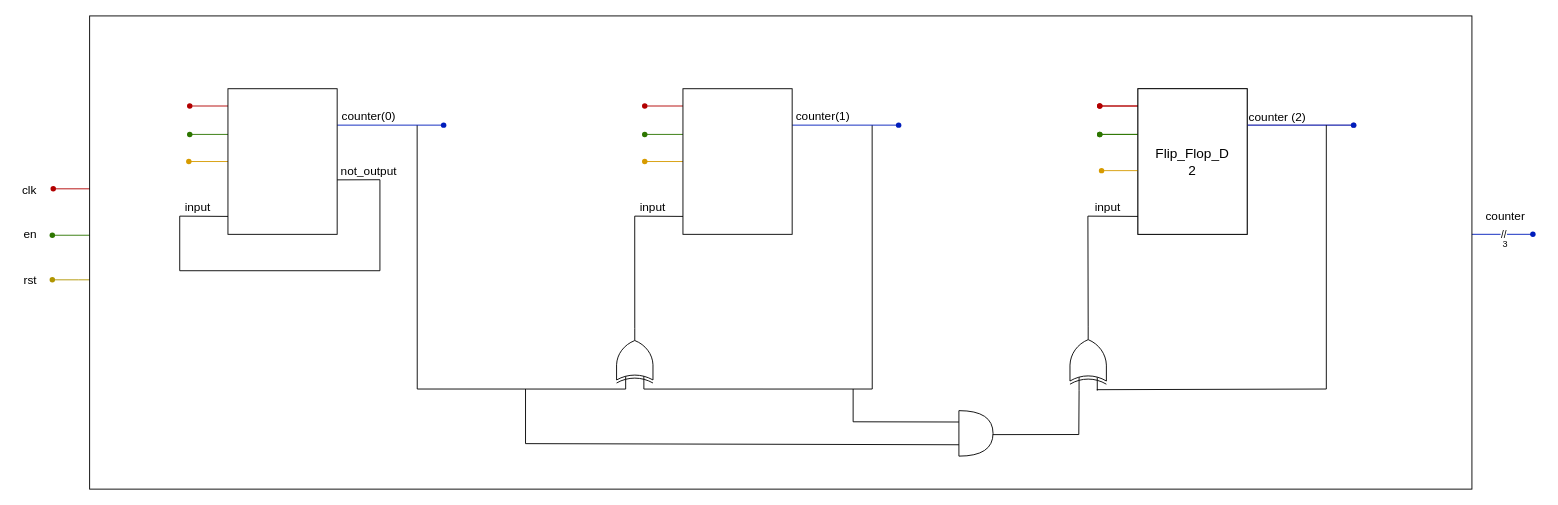
The diagram is 1558 pixels wide and 505 high, and some of its shapes have lost their labels. The shapes that lost their labels are listed below. From the top down, each one's centre as x and y in pixels, then its label:
(282,161): Flip_Flop_D 0
(737,161): Flip_Flop_D 1
